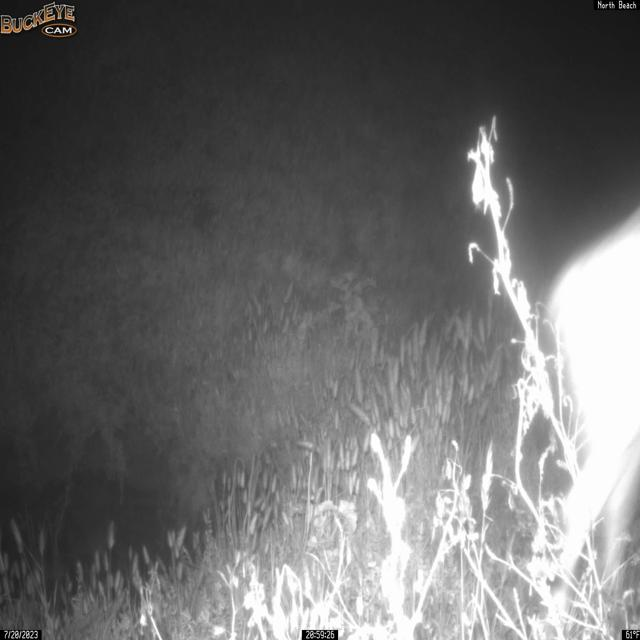deer: (543, 167, 640, 637)
